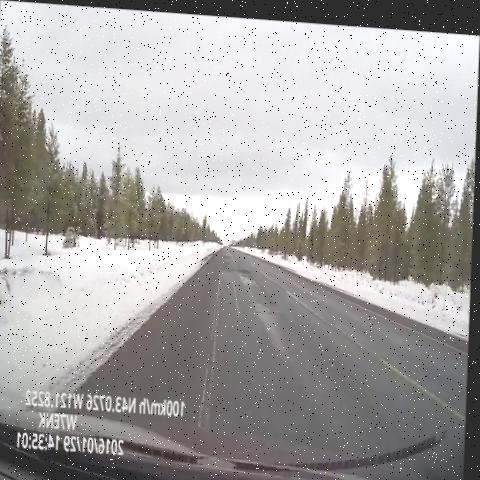pothole: (239, 257, 259, 284)
